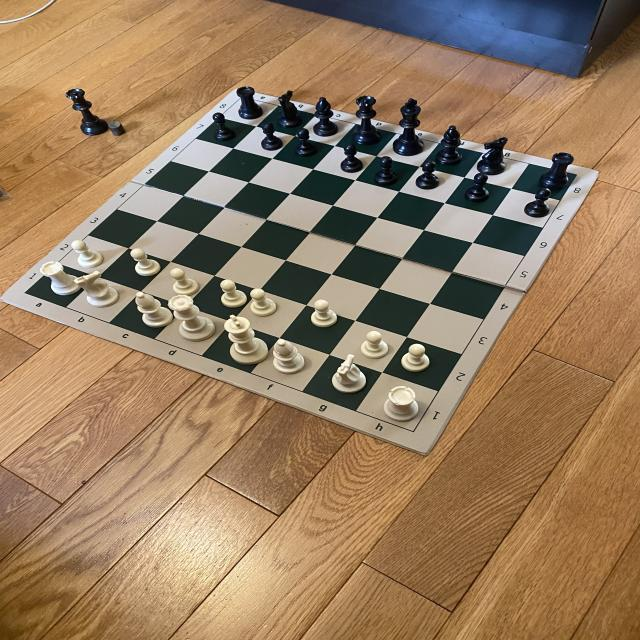chess-table-corners: (400, 420, 424, 440), (570, 170, 584, 182), (16, 289, 34, 297)
